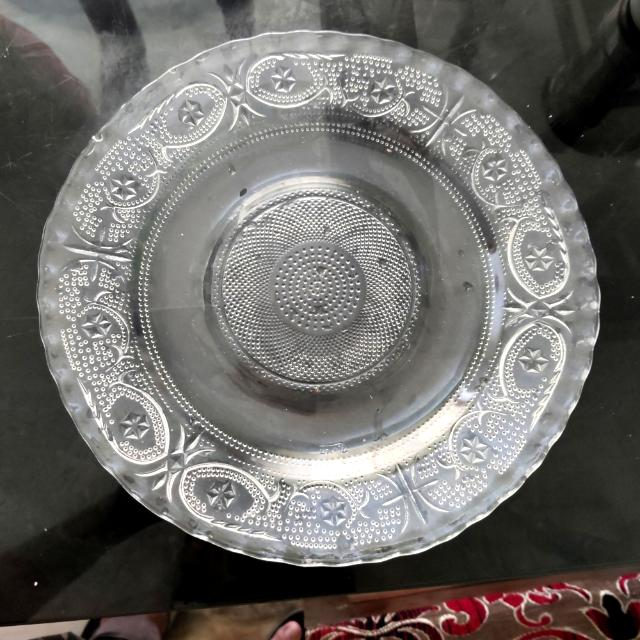Plate: (39, 32, 598, 564)
